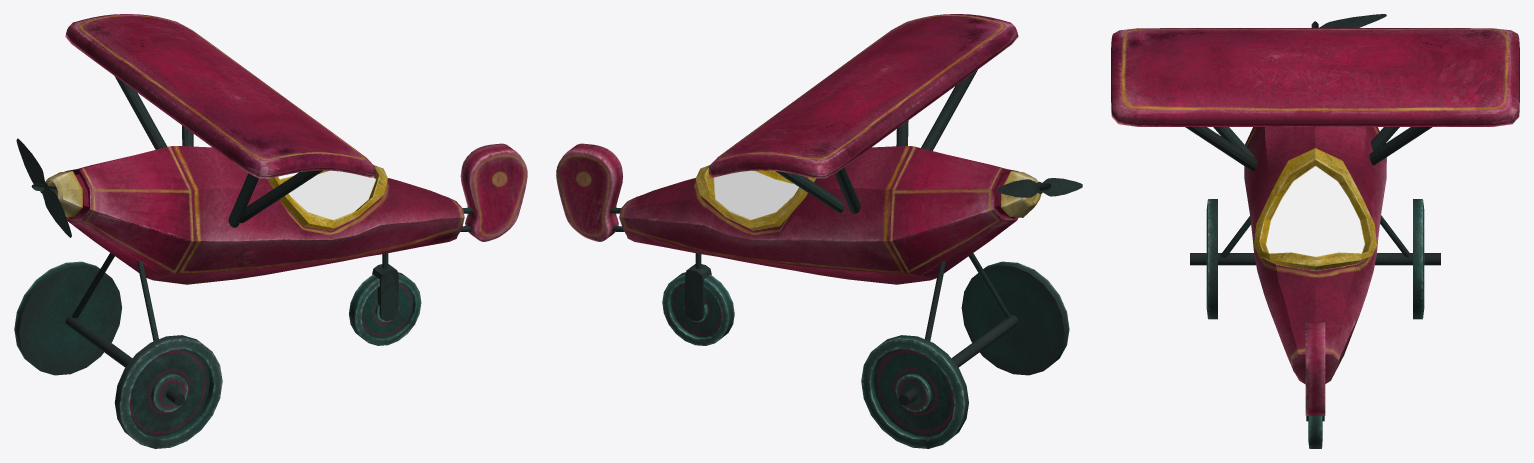
3 renders of one model, left to right at view 1: azimuth 30°, elevation 25°; view 2: azimuth 150°, elevation 25°; view 3: azimuth 270°, elevation 25°, orthographic.
Parts seen in each view (by area): view 1: polySurface7, polySurface5, polySurface1, polySurface3, polySurface8, polySurface10, polySurface12, polySurface20, polySurface33, polySurface26, polySurface24, polySurface14 (+1 smaller); view 2: polySurface7, polySurface5, polySurface3, polySurface1, polySurface8, polySurface10, polySurface12, polySurface20, polySurface33, polySurface14, polySurface22, polySurface24 (+1 smaller); view 3: polySurface5, polySurface7, polySurface8, polySurface1, polySurface3, polySurface20, polySurface26, polySurface22, polySurface12, polySurface10.
Boxes of the visible parts, bbox=[...] form: polySurface7: bbox=[42, 146, 464, 284]; polySurface5: bbox=[65, 14, 375, 178]; polySurface1: bbox=[114, 335, 222, 448]; polySurface3: bbox=[14, 261, 122, 375]; polySurface8: bbox=[460, 143, 527, 241]; polySurface10: bbox=[349, 272, 421, 345]; polySurface12: bbox=[16, 138, 71, 237]; polySurface20: bbox=[65, 315, 184, 405]; polySurface33: bbox=[372, 264, 398, 321]; polySurface26: bbox=[240, 170, 323, 223]; polySurface24: bbox=[114, 76, 167, 149]; polySurface14: bbox=[228, 173, 258, 227]; polySurface7: bbox=[619, 146, 1041, 284]; polySurface5: bbox=[708, 14, 1018, 178]; polySurface3: bbox=[861, 335, 968, 448]; polySurface1: bbox=[961, 261, 1069, 375]; polySurface8: bbox=[556, 143, 622, 241]; polySurface10: bbox=[662, 272, 734, 345]; polySurface12: bbox=[997, 178, 1082, 197]; polySurface20: bbox=[899, 315, 1018, 405]; polySurface33: bbox=[685, 264, 711, 321]; polySurface14: bbox=[921, 70, 977, 150]; polySurface22: bbox=[775, 171, 844, 212]; polySurface24: bbox=[834, 167, 860, 213]; polySurface5: bbox=[1111, 28, 1519, 126]; polySurface7: bbox=[1244, 127, 1386, 384]; polySurface8: bbox=[1305, 322, 1325, 415]; polySurface1: bbox=[1206, 199, 1217, 319]; polySurface3: bbox=[1413, 199, 1424, 319]; polySurface20: bbox=[1190, 253, 1440, 265]; polySurface26: bbox=[1185, 127, 1257, 171]; polySurface22: bbox=[1369, 127, 1432, 165]; polySurface12: bbox=[1311, 14, 1386, 27]; polySurface10: bbox=[1308, 416, 1322, 448].
Size of the model in its own units: 9.53 by 5.65 by 6.74.
